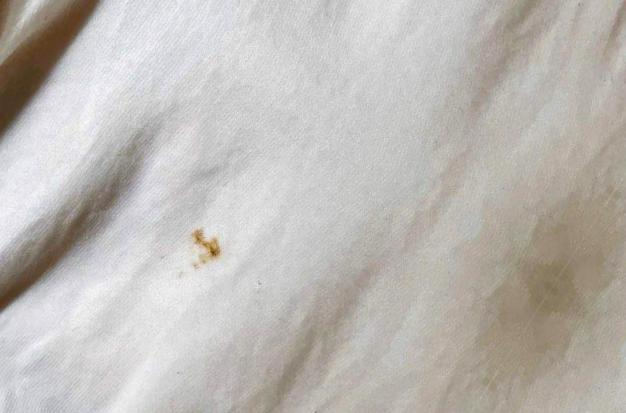stain: (180, 217, 225, 270)
